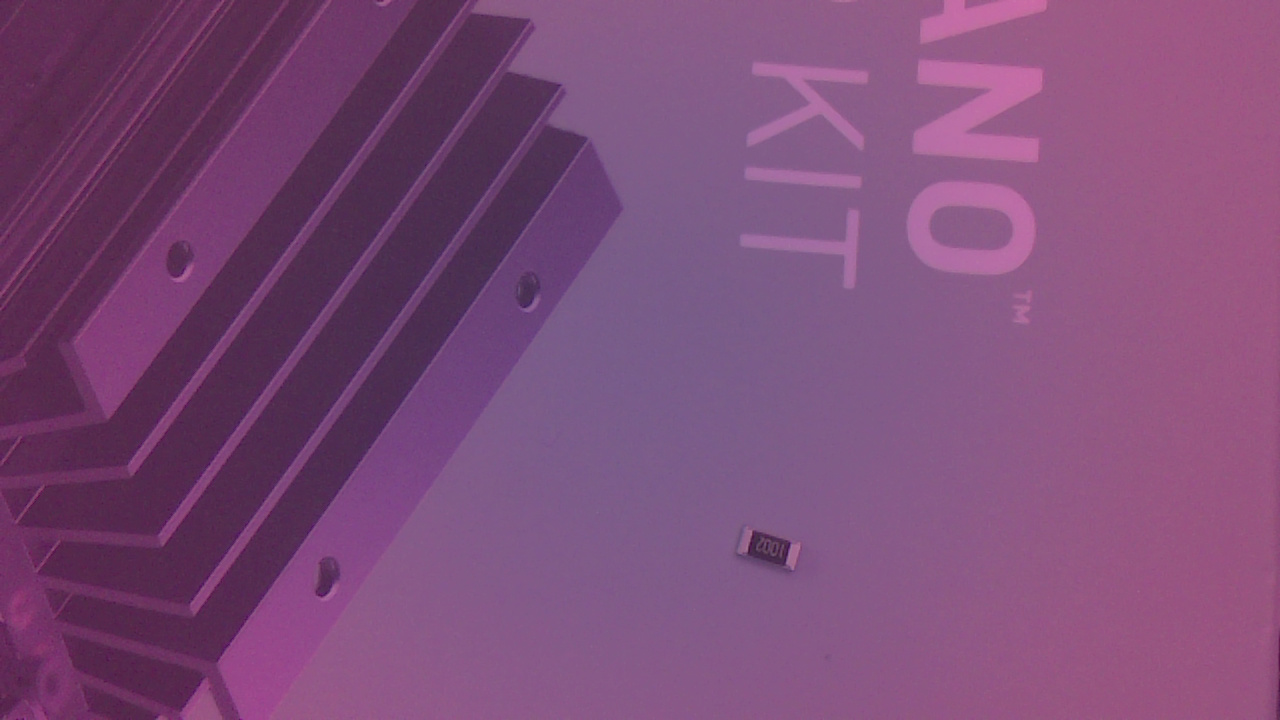Resistor: (732, 524, 812, 580)
